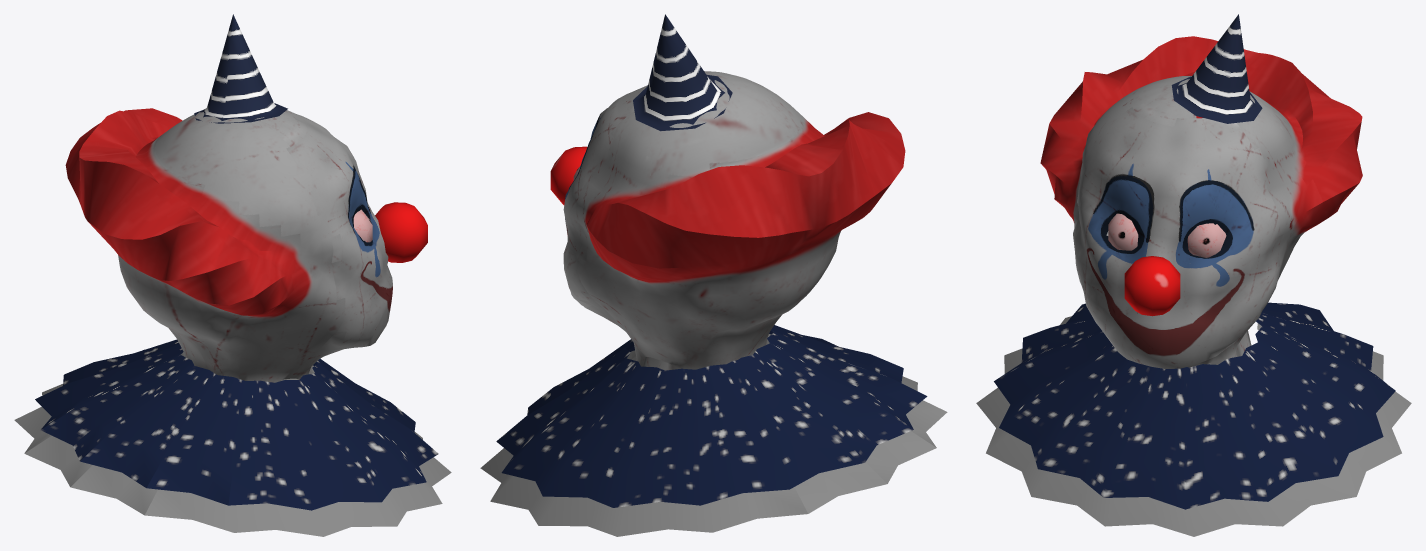
The model's file is clown-blue.fbx.
The picture shows the model from 3 angles, left to right: view 1: azimuth 30°, elevation 25°; view 2: azimuth 150°, elevation 25°; view 3: azimuth 270°, elevation 25°; orthographic projection. The views are drawn at different scales.
Parts seen in each view (by area): view 1: clown_blue; view 2: clown_blue; view 3: clown_blue.
Boxes of the visible parts, <box> form: clown_blue: <box>14,14,451,536</box>; clown_blue: <box>480,14,947,536</box>; clown_blue: <box>976,14,1411,536</box>.
Size of the model in its own units: 134 by 153 by 136.
1 material, 1 textured.
